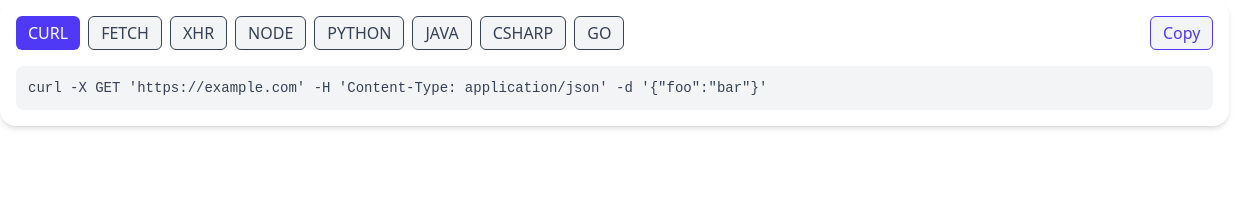
Scenario: CodeGenerator › generates xhr code
The width and height of the screenshot is (1247, 207).
Click the button "XHR" at (198, 33), box [170,16,227,50]
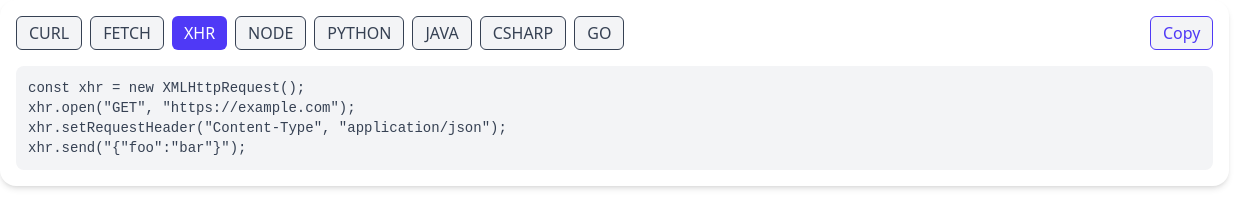
Expected: the text "const xhr = new XMLHttpRequest" is shown, [28,80,507,156]
